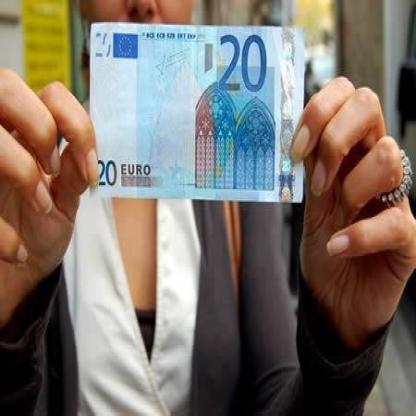billete: (89, 20, 305, 203)
